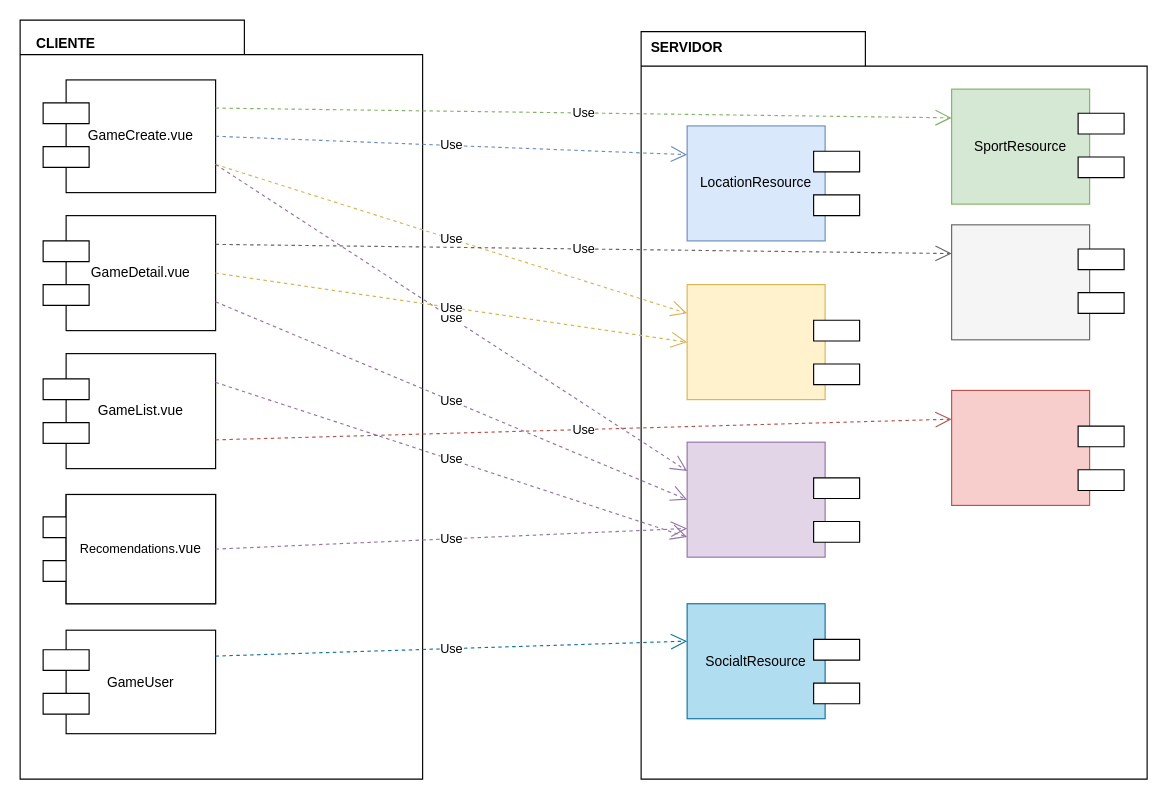
Image size: 1167x799. Some labels were removed from this diagram. Here are the shapes that lost their labels. From the top down, the box of each, then its label:
(950, 224, 1090, 340): PlayerResource
(686, 283, 825, 400): GameResource
(950, 389, 1090, 505): CommentResource
(686, 441, 825, 557): UserResource
